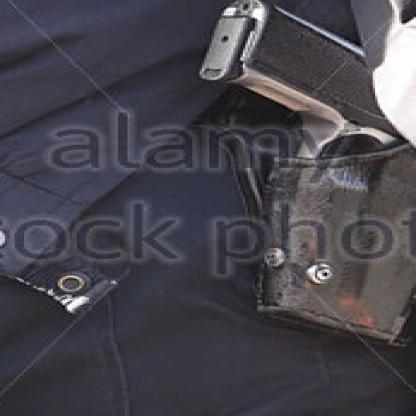gun: (190, 0, 414, 350)
